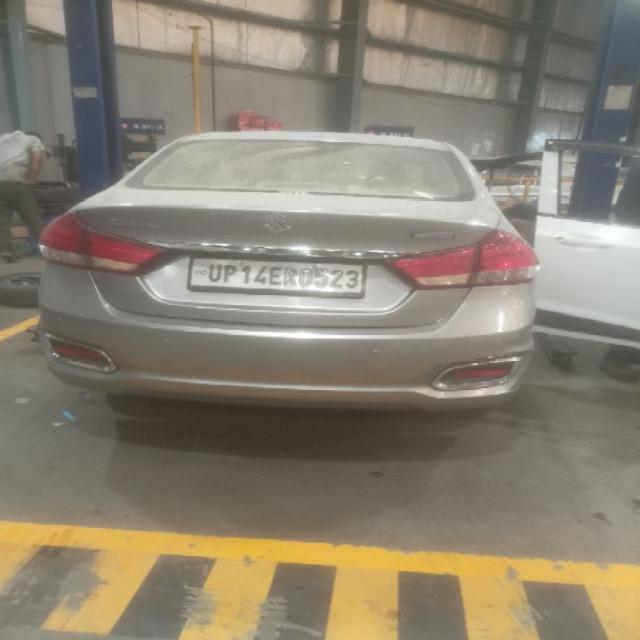license_plate: (185, 254, 366, 298)
